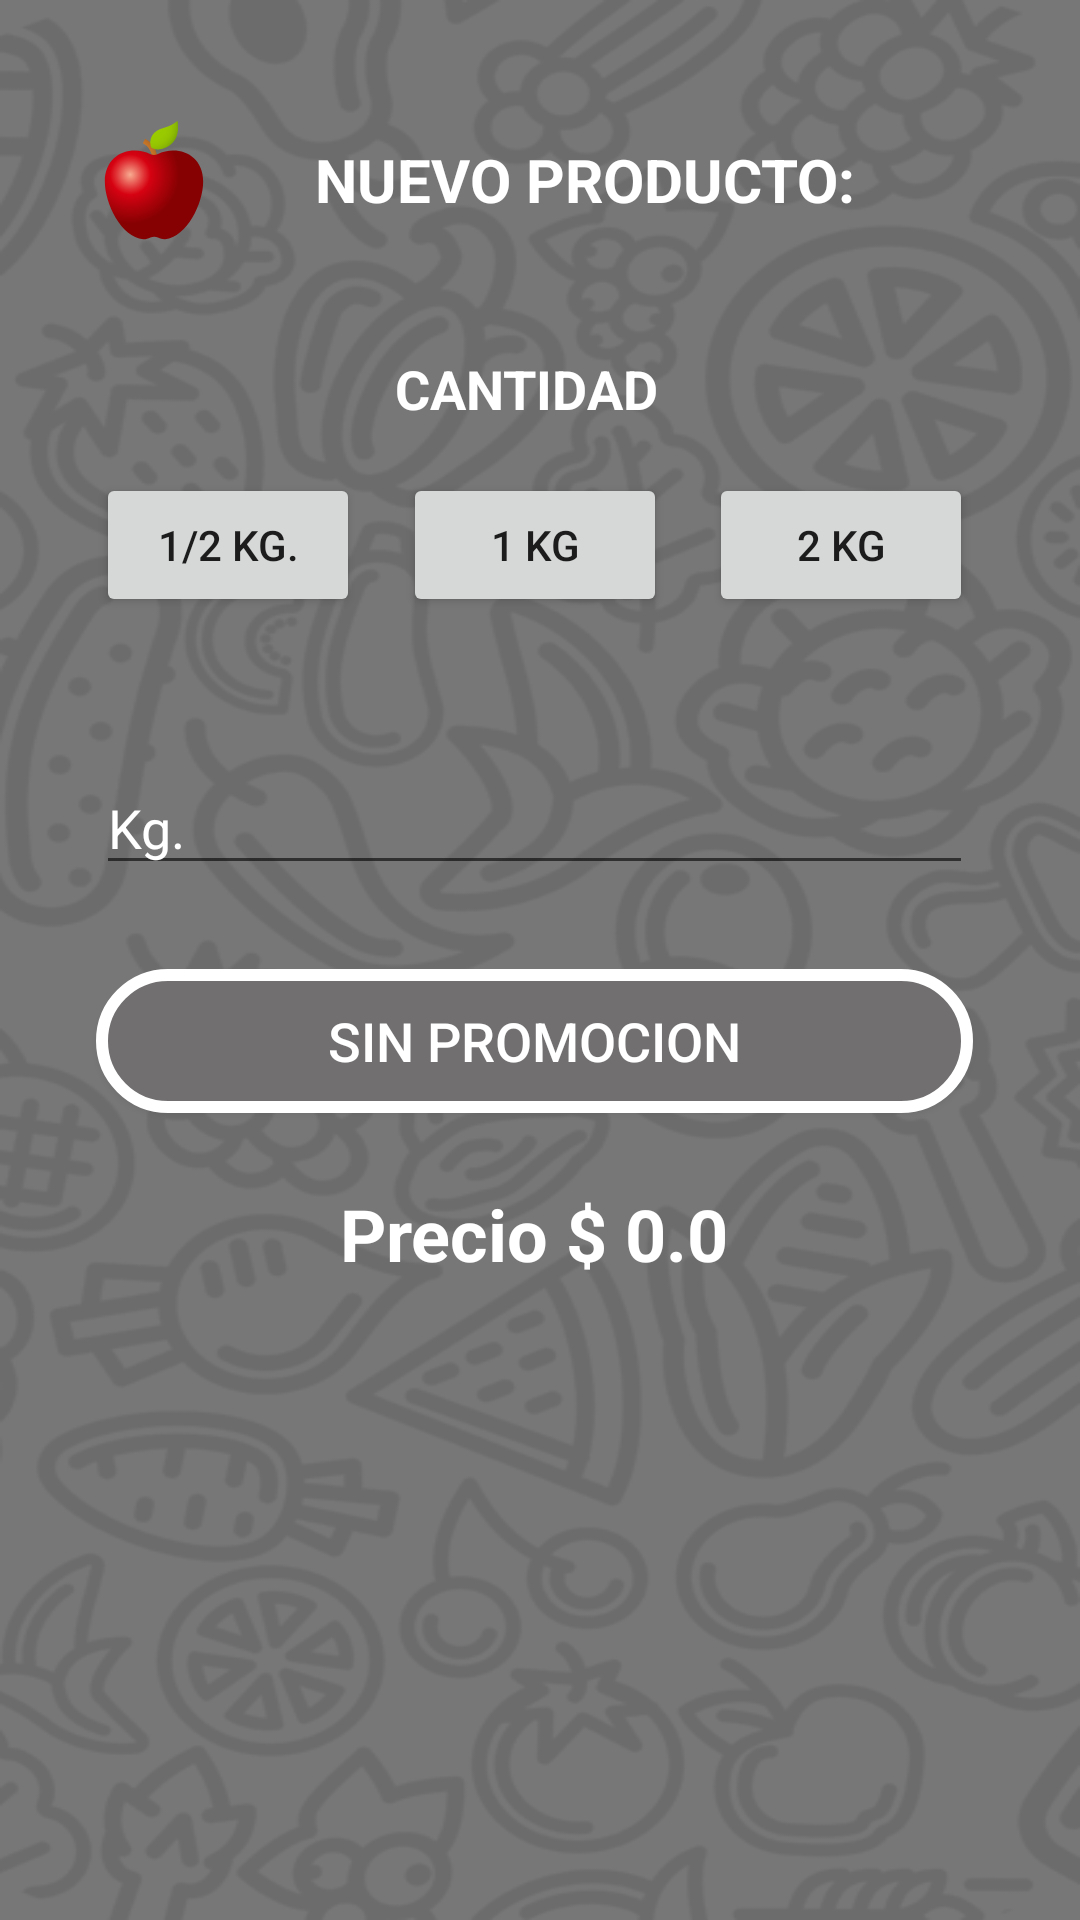

Named icons in this screenshot (1080 x 1920) and their bounding boxes, {"left": x1, "top": y1, "right": x2, "bottom": y2}:
apple: {"left": 105, "top": 121, "right": 204, "bottom": 240}
